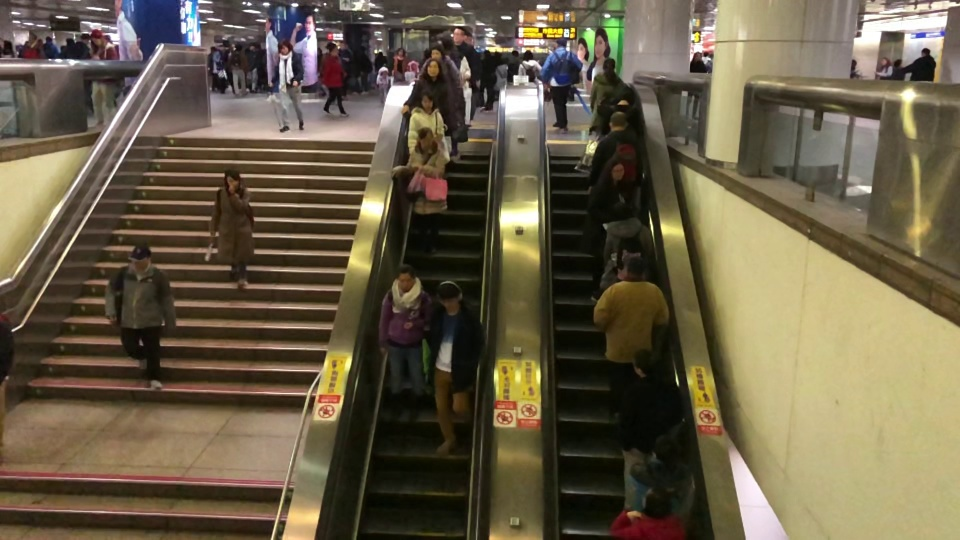person_head: (641, 486, 672, 517), (630, 348, 657, 375), (653, 434, 680, 460), (437, 282, 460, 311), (622, 257, 646, 280), (396, 263, 416, 289), (130, 247, 149, 270), (611, 200, 632, 220), (608, 157, 626, 180), (608, 111, 628, 131), (416, 128, 434, 150), (223, 168, 240, 189), (424, 57, 442, 76), (618, 86, 635, 105), (419, 89, 435, 109), (429, 43, 445, 61), (453, 27, 466, 46), (277, 39, 294, 53), (602, 57, 616, 72), (91, 31, 103, 45), (327, 41, 338, 54), (555, 37, 567, 48), (692, 50, 702, 61), (920, 47, 931, 57), (523, 50, 533, 60), (880, 55, 890, 65), (79, 32, 88, 42), (209, 45, 219, 54), (28, 33, 36, 44), (396, 46, 404, 57), (894, 57, 902, 67), (410, 60, 417, 70), (340, 39, 347, 49), (380, 66, 387, 75), (484, 48, 490, 58), (851, 59, 857, 69), (44, 35, 51, 42), (703, 50, 709, 58), (235, 43, 242, 49)
person_vbox: (592, 256, 670, 424), (615, 349, 683, 514), (103, 247, 177, 390), (425, 282, 485, 456), (376, 262, 431, 421), (579, 157, 631, 304), (392, 127, 447, 254), (627, 434, 696, 521), (207, 167, 255, 292), (418, 44, 466, 162), (599, 200, 653, 290), (401, 57, 458, 131), (609, 485, 685, 540), (540, 37, 583, 133), (590, 111, 644, 187), (267, 39, 306, 133), (90, 30, 119, 126), (588, 56, 624, 130), (317, 40, 350, 118), (407, 88, 445, 155), (0, 313, 15, 468), (600, 86, 641, 130), (453, 27, 483, 82), (684, 50, 706, 121), (74, 32, 92, 112), (478, 47, 497, 114), (228, 42, 250, 97), (903, 46, 937, 81), (208, 45, 227, 95), (338, 40, 352, 100), (518, 50, 541, 81), (21, 32, 42, 60), (391, 46, 407, 81), (376, 65, 388, 105), (874, 55, 894, 79), (43, 34, 58, 59), (849, 59, 865, 80), (894, 57, 905, 82), (703, 50, 711, 71), (408, 59, 417, 77)
